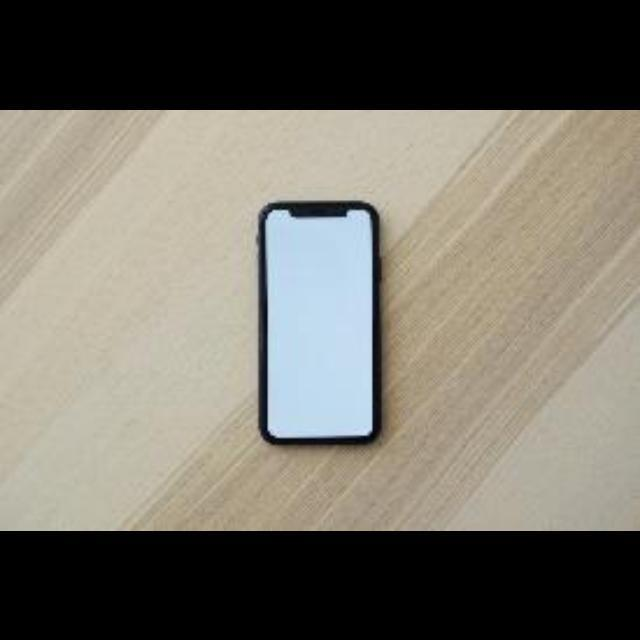phone: (233, 175, 411, 479)
